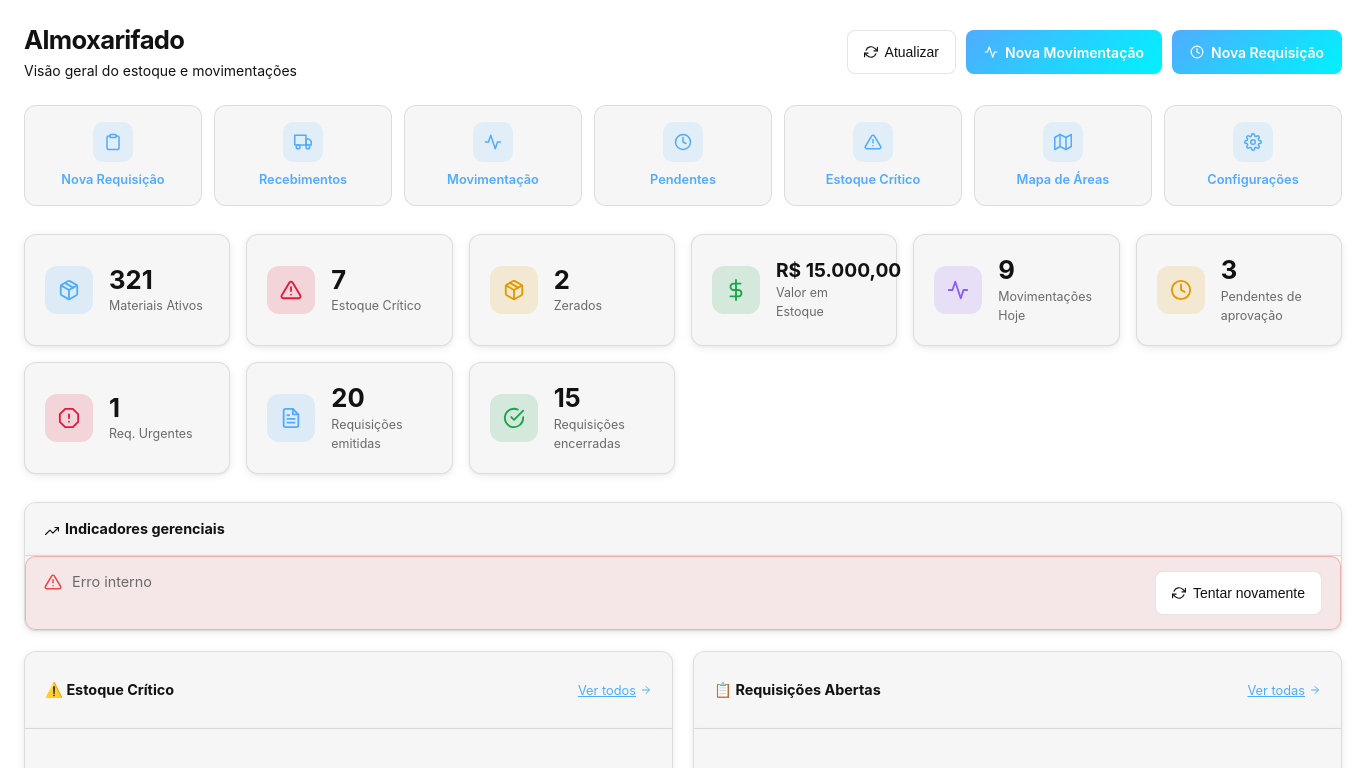
Scenario: AlmoxarifadoDashboard — falha localizada do endpoint de indicadores › retry no painel de erro busca os indicadores de novo e, se der certo, os 3 cartões aparecem
Expected: the element with test id "indicadores-erro" is shown, [25,556,1341,630]
Click the button "Tentar novamente" at (1238, 593), box [1155,571,1322,615]
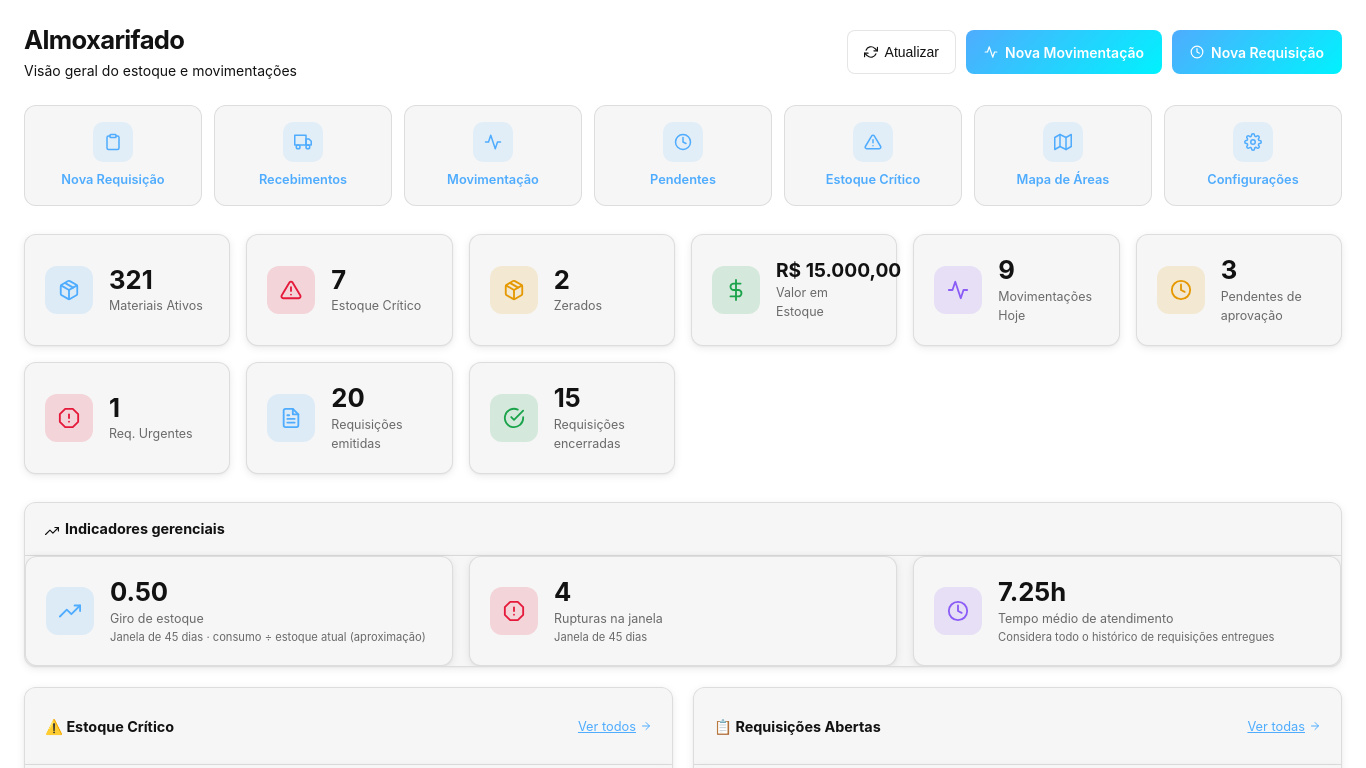
Expected: the text with test id "kpi-giro" reads "0.50", [110,576,168,607]
